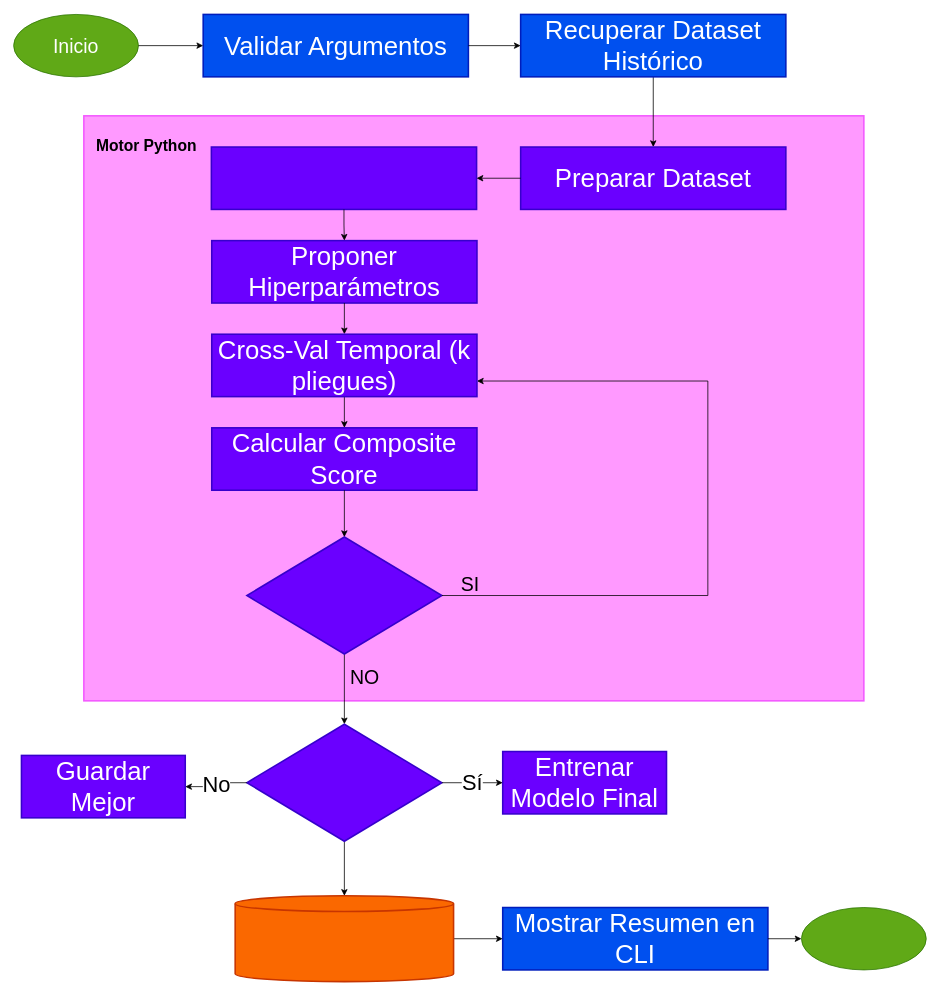
Image size: 940x995. Some labels were removed from this diagram. Here are the shapes that lost their labels. From the top down, the centre of each, then its label:
the point at 343,178: Bucle Optuna (N trials)
the point at 344,595: ¿Más trials?
the point at 344,782: ¿Score > umbral?
the point at 344,938: Serializar Modelo
the point at 863,938: Fin
